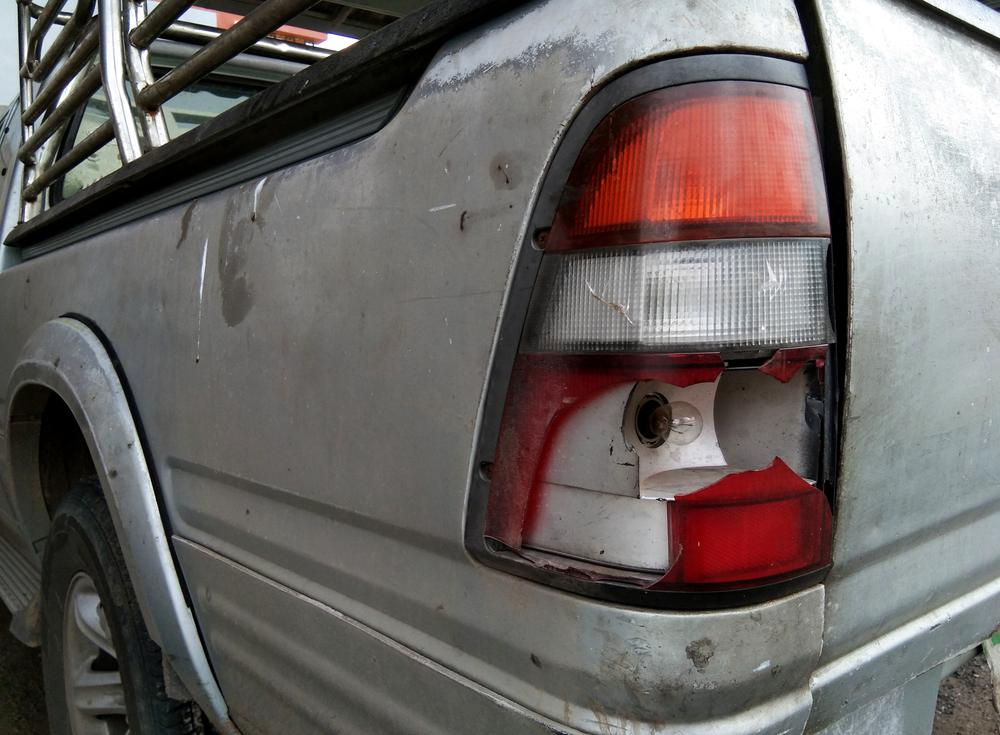lamp broken: (480, 80, 832, 592)
